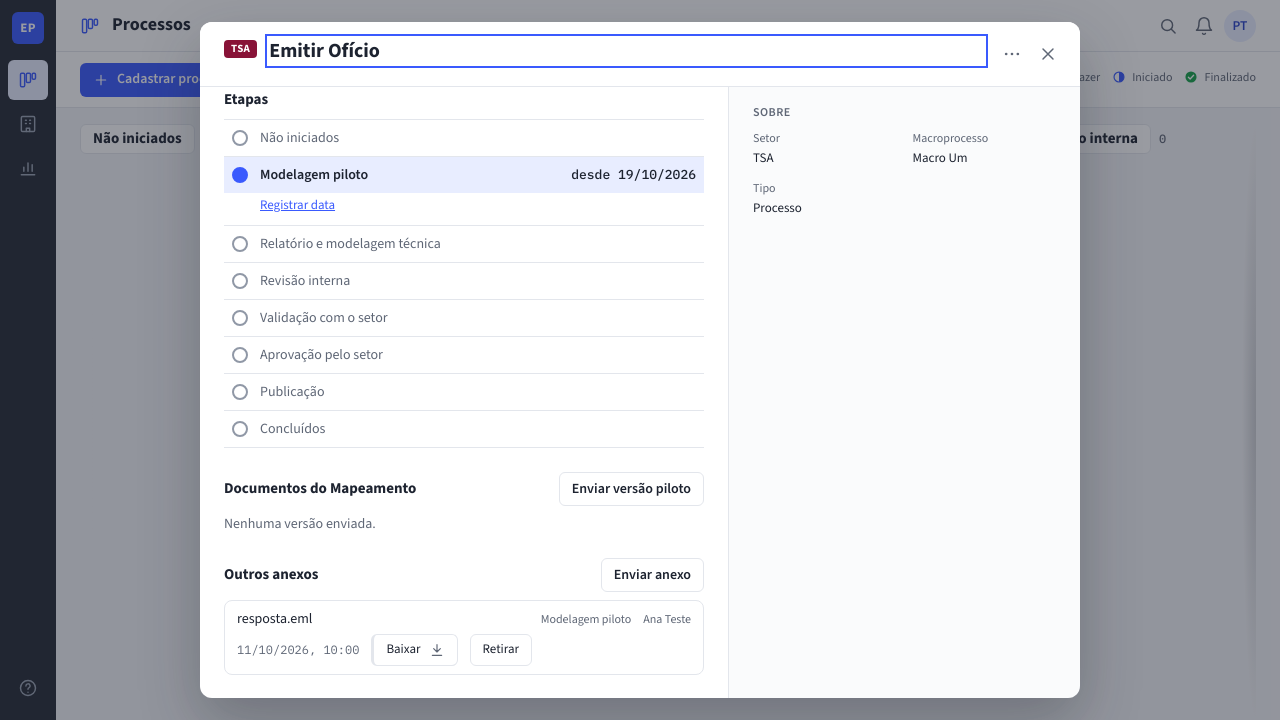
it: confirmar retira o anexo: a linha some, a função recebe o identificador e a lista fica vazia
The image size is (1280, 720).
(page scrolled)
Click the button with aria-label "Retirar resposta.eml". click: (501, 650)
box: x1=470 y1=634 x2=532 y2=666
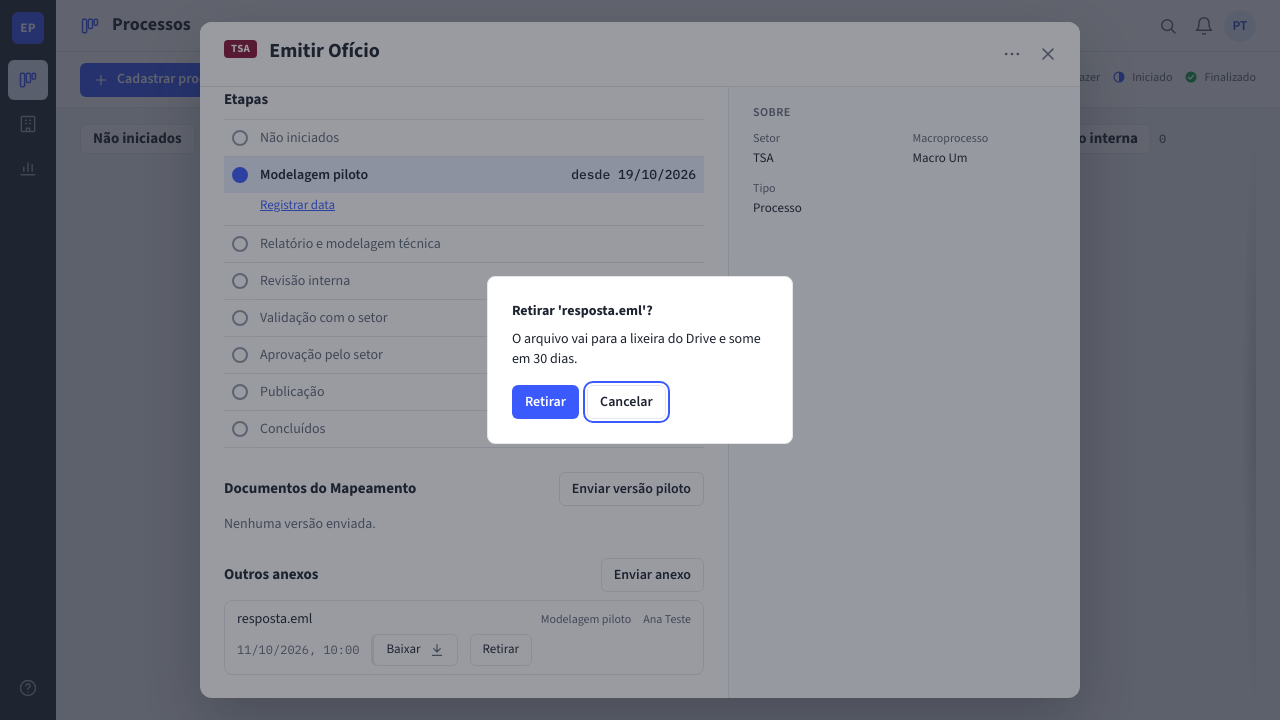
Click the button "Retirar". click: (545, 402)
box: x1=512 y1=385 x2=579 y2=419
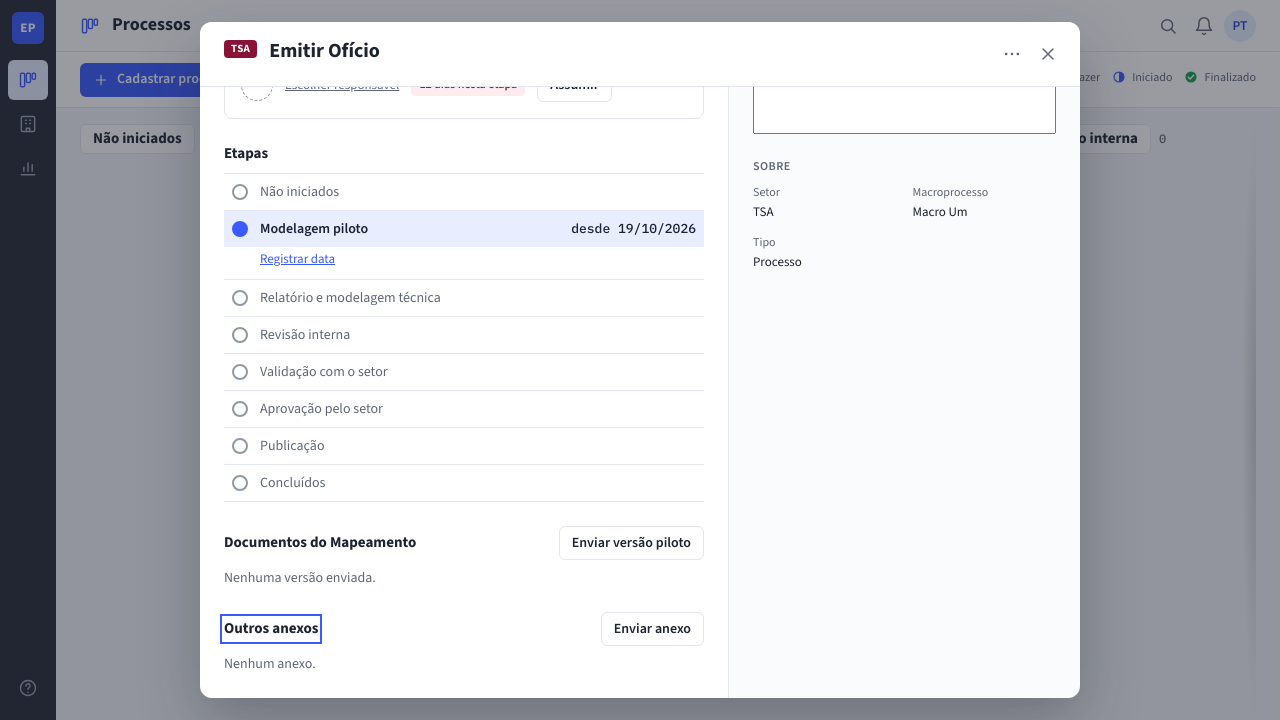
Expected: the text "Nenhum anexo." is shown, x1=224 y1=654 x2=316 y2=675
Expected: the heading "resposta.eml" is gone
